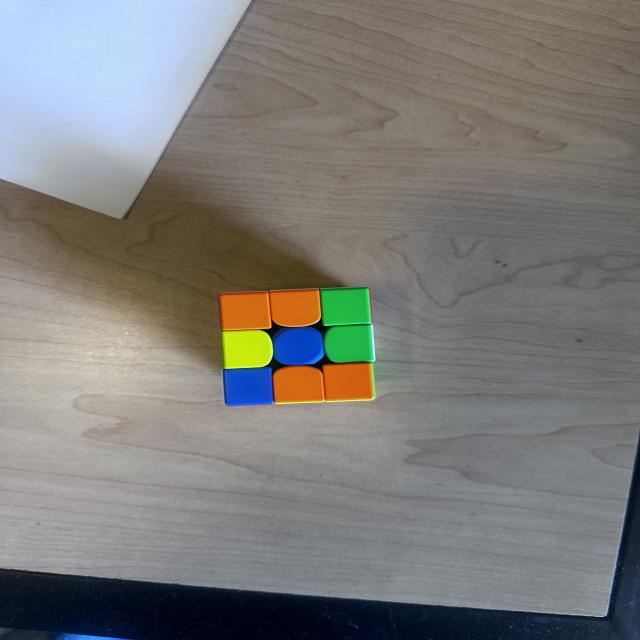sticker: (321, 362, 377, 404), (271, 364, 326, 406), (218, 291, 273, 332), (268, 288, 322, 328), (223, 366, 275, 407), (319, 287, 373, 326), (221, 330, 273, 370), (323, 324, 375, 364), (272, 326, 324, 366)
